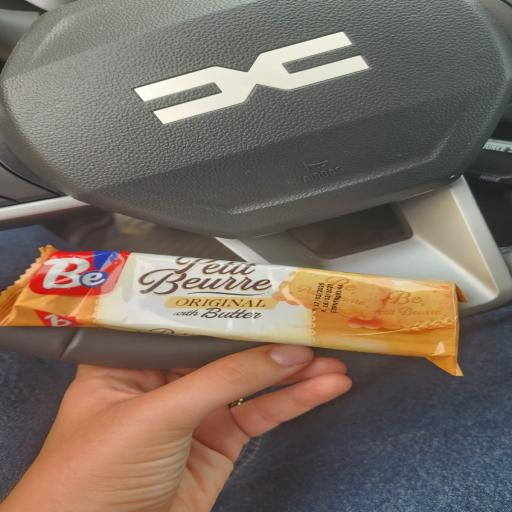petit-beurre: (0, 223, 512, 424)
